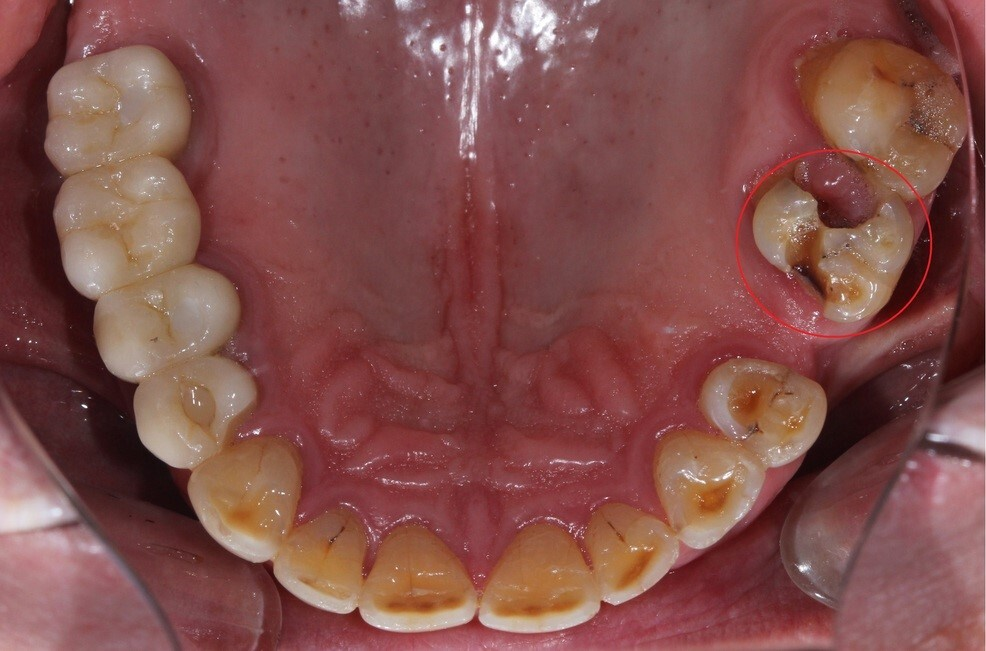LL1BC_decay: (701, 357, 826, 466)
LL1M_decay: (742, 158, 918, 324)
LL2M_decay: (815, 33, 968, 197)
LLCI_decay: (480, 511, 601, 633)
LLC_decay: (652, 428, 762, 549)
LLLI_decay: (589, 497, 680, 608)
LR1BC_decay: (134, 355, 263, 469)
LR1M_healthy: (54, 157, 201, 299)
LR2BC_decay: (91, 266, 244, 383)
LR2M_healthy: (44, 43, 191, 176)
LRCI_decay: (361, 517, 478, 635)
LRC_decay: (188, 433, 306, 565)
LRLI_decay: (270, 504, 373, 616)
